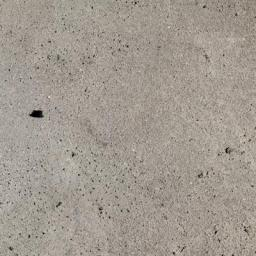FOD: (26, 107, 48, 122)
